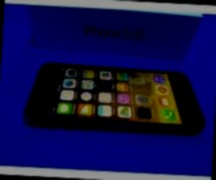iphone: (25, 65, 207, 132)
